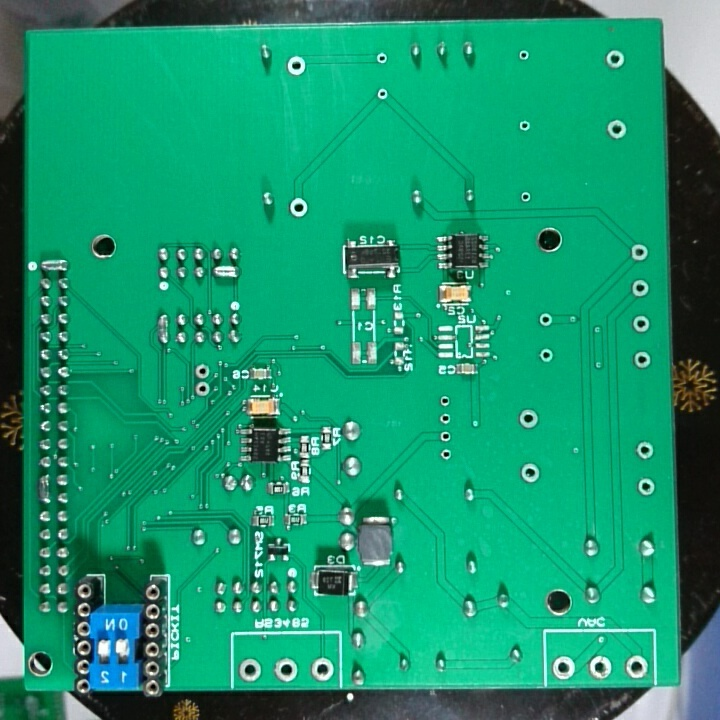F: (236, 657, 265, 685), (272, 657, 300, 684), (550, 654, 577, 682), (602, 45, 627, 74), (624, 653, 649, 682), (310, 656, 336, 683), (587, 653, 613, 680), (603, 117, 629, 142), (284, 54, 309, 80), (517, 405, 541, 432), (518, 461, 543, 486), (287, 196, 311, 220), (628, 275, 651, 299), (634, 438, 655, 463), (628, 240, 649, 264), (631, 349, 653, 371), (636, 476, 657, 499), (191, 360, 212, 381), (631, 313, 652, 334), (191, 379, 213, 398), (537, 346, 556, 367), (373, 84, 392, 104), (437, 445, 456, 463), (536, 311, 554, 330), (437, 409, 454, 429), (373, 49, 391, 67), (515, 46, 534, 63), (437, 427, 453, 445), (437, 392, 452, 409), (518, 188, 533, 205), (517, 118, 532, 134)
P: (209, 262, 242, 281), (34, 472, 53, 505), (38, 256, 70, 274), (155, 312, 171, 346)
